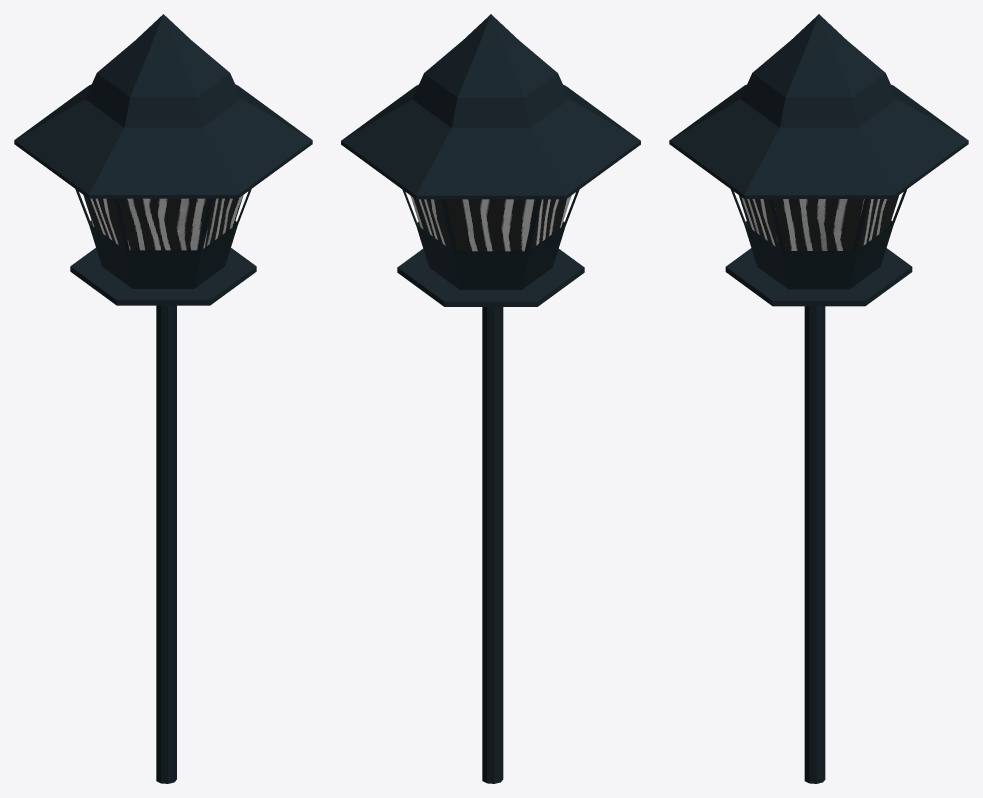
File: 024_Shadow_Lamp_02.fbx
The picture shows the model from 3 angles, left to right: view 1: azimuth 30°, elevation 25°; view 2: azimuth 150°, elevation 25°; view 3: azimuth 270°, elevation 25°; orthographic projection.
Parts seen in each view (by area): view 1: Cylinder.013, Cylinder.014, Cylinder.012; view 2: Cylinder.013, Cylinder.014, Cylinder.012; view 3: Cylinder.013, Cylinder.014, Cylinder.012.
Part boxes in pixels (x1,y1,x2,y2): Cylinder.013: (14,14,312,305); Cylinder.014: (156,305,176,783); Cylinder.012: (83,195,243,250); Cylinder.013: (341,14,640,306); Cylinder.014: (482,307,503,783); Cylinder.012: (410,195,571,251); Cylinder.013: (669,14,968,306); Cylinder.014: (804,306,825,783); Cylinder.012: (739,195,898,250).
Bounding box in the file's own units: 118 × 385 × 136.
